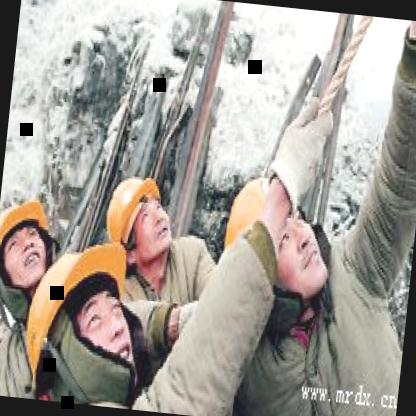helmet: (15, 233, 154, 402), (214, 166, 337, 300), (99, 174, 179, 264), (0, 193, 55, 296)
